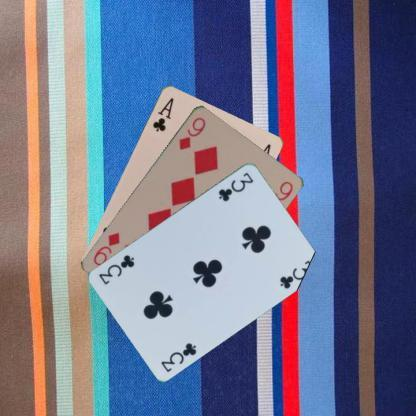3c: (158, 339, 198, 373), (215, 170, 255, 202)
9d: (176, 114, 207, 151)
Ac: (150, 94, 176, 132)
